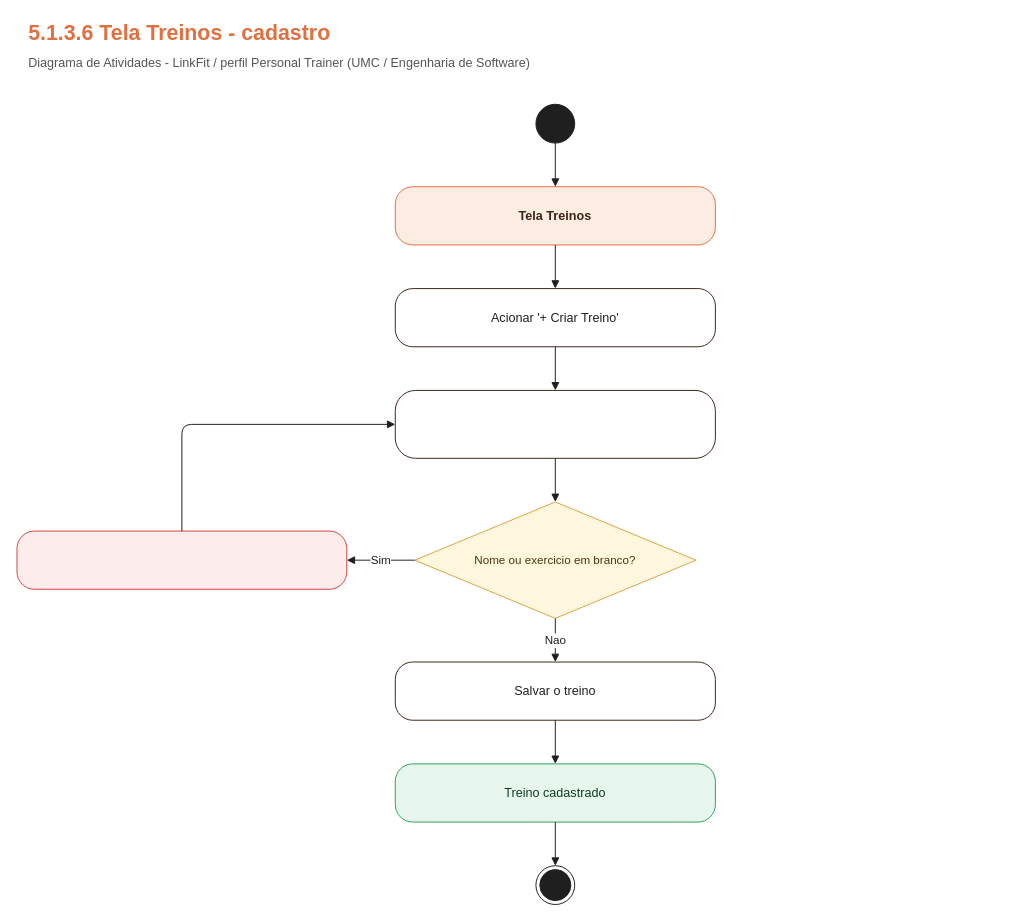
This 1014x922 diagram has some shape labels left out. The shapes that lost their labels are listed below. From the top down, each one's centre as x and y in pixels, then its label:
At (554,423): "Informar nome, aluno e exercicios (series, repeticoes e carga)".
At (181,559): "Preencher os campos obrigatorios".
